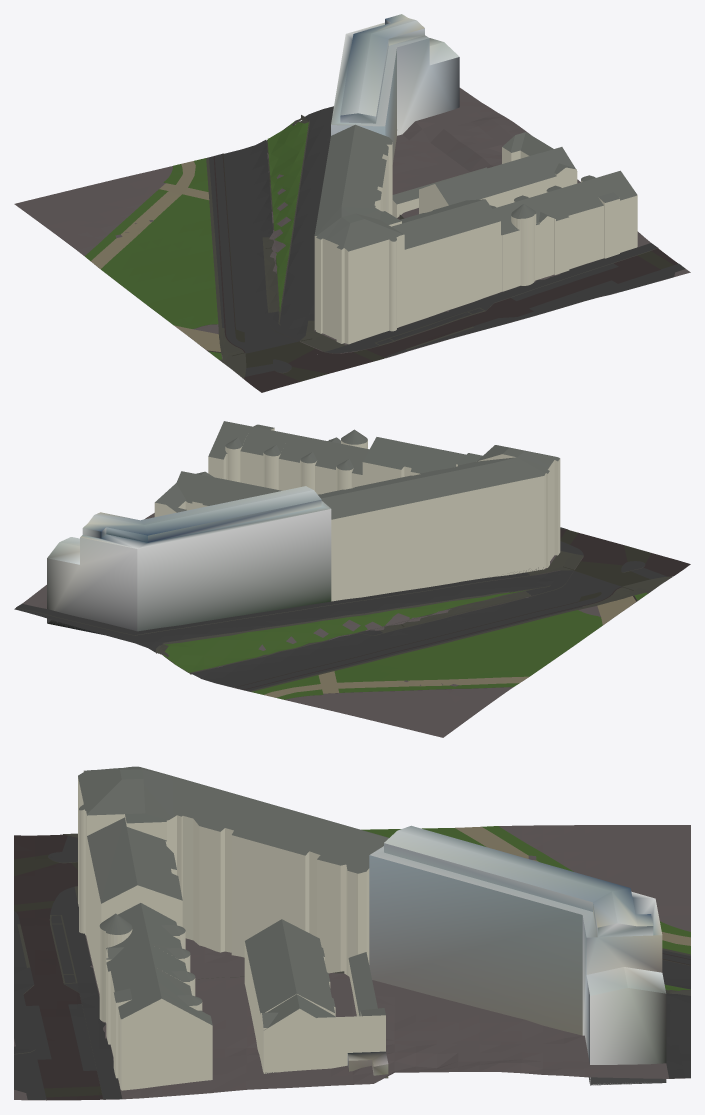
3 views of the same model, one above another, from view 1: azimuth 30°, elevation 25°; view 2: azimuth 150°, elevation 25°; view 3: azimuth 270°, elevation 25° (orthographic). The views are drawn at different scales.
Visible parts, largest first — view 1: c_m05_p09; view 2: c_m05_p09; view 3: c_m05_p09.
Boxes of the visible parts, x1=… form: c_m05_p09: x1=14, y1=14, x2=690, y2=392; c_m05_p09: x1=14, y1=421, x2=690, y2=737; c_m05_p09: x1=14, y1=766, x2=690, y2=1100.
Size of the model in its own units: 128 by 33.97 by 128.
